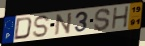3: (73, 11, 90, 34)
D: (13, 16, 34, 41)
H: (111, 5, 130, 30)
N: (54, 12, 73, 37)
S: (32, 15, 52, 39), (93, 7, 112, 32)
